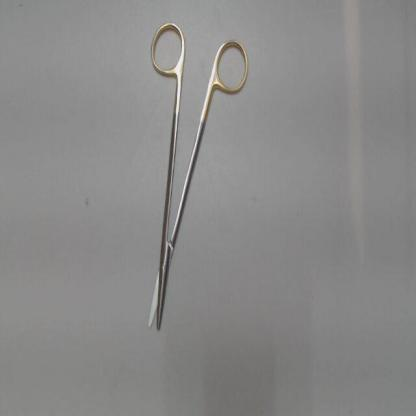7 Metzenbaum Scissors: (142, 16, 254, 337)
